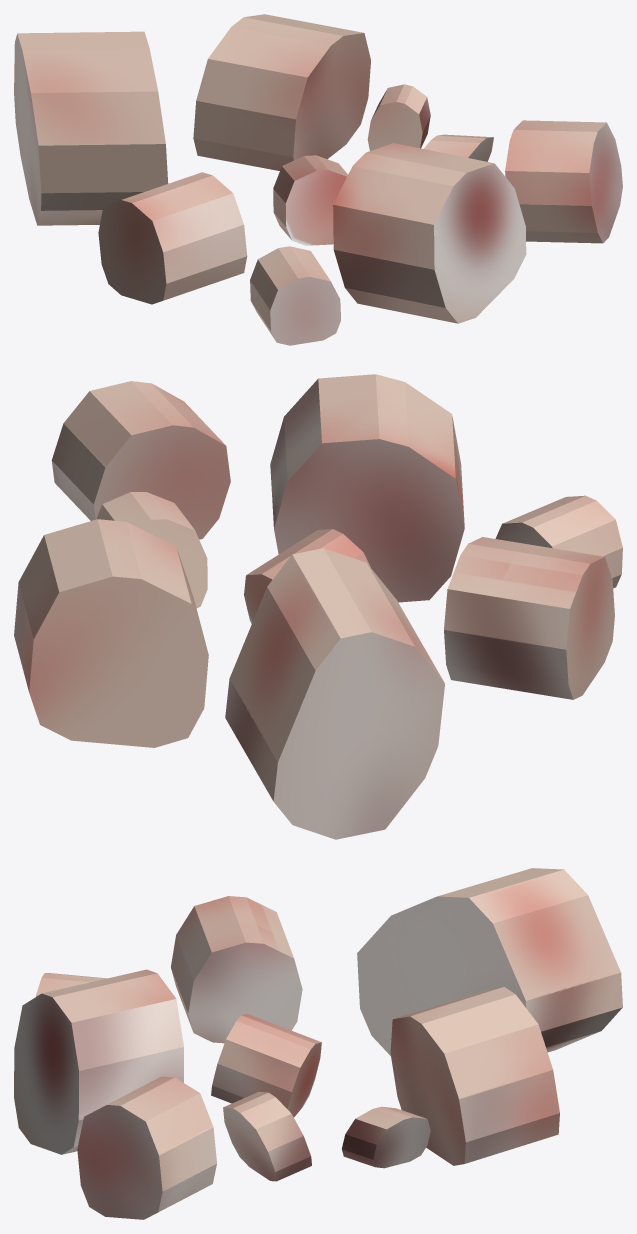
The model's file is cola picado.fbx.
The picture shows the model from 3 angles, top to bottom: view 1: azimuth 30°, elevation 25°; view 2: azimuth 150°, elevation 25°; view 3: azimuth 270°, elevation 25°; orthographic projection. The views are drawn at different scales.
Parts seen in each view (by area): view 1: Cube.005; view 2: Cube.005; view 3: Cube.005.
Part boxes in pixels (box(x1,y1,x2,y2)): Cube.005: box(14, 14, 622, 345); Cube.005: box(14, 374, 622, 839); Cube.005: box(14, 868, 622, 1219).
Bounding box in the file's own units: 71.31 × 26.95 × 75.32.
1 material, 1 textured.
